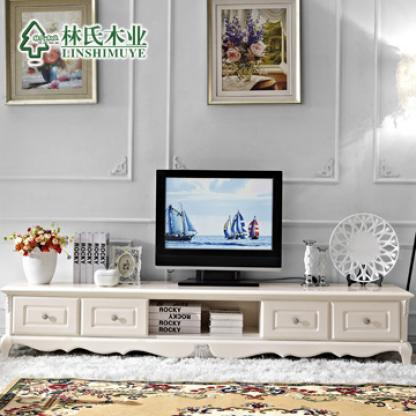TV stand: (7, 166, 416, 363)
